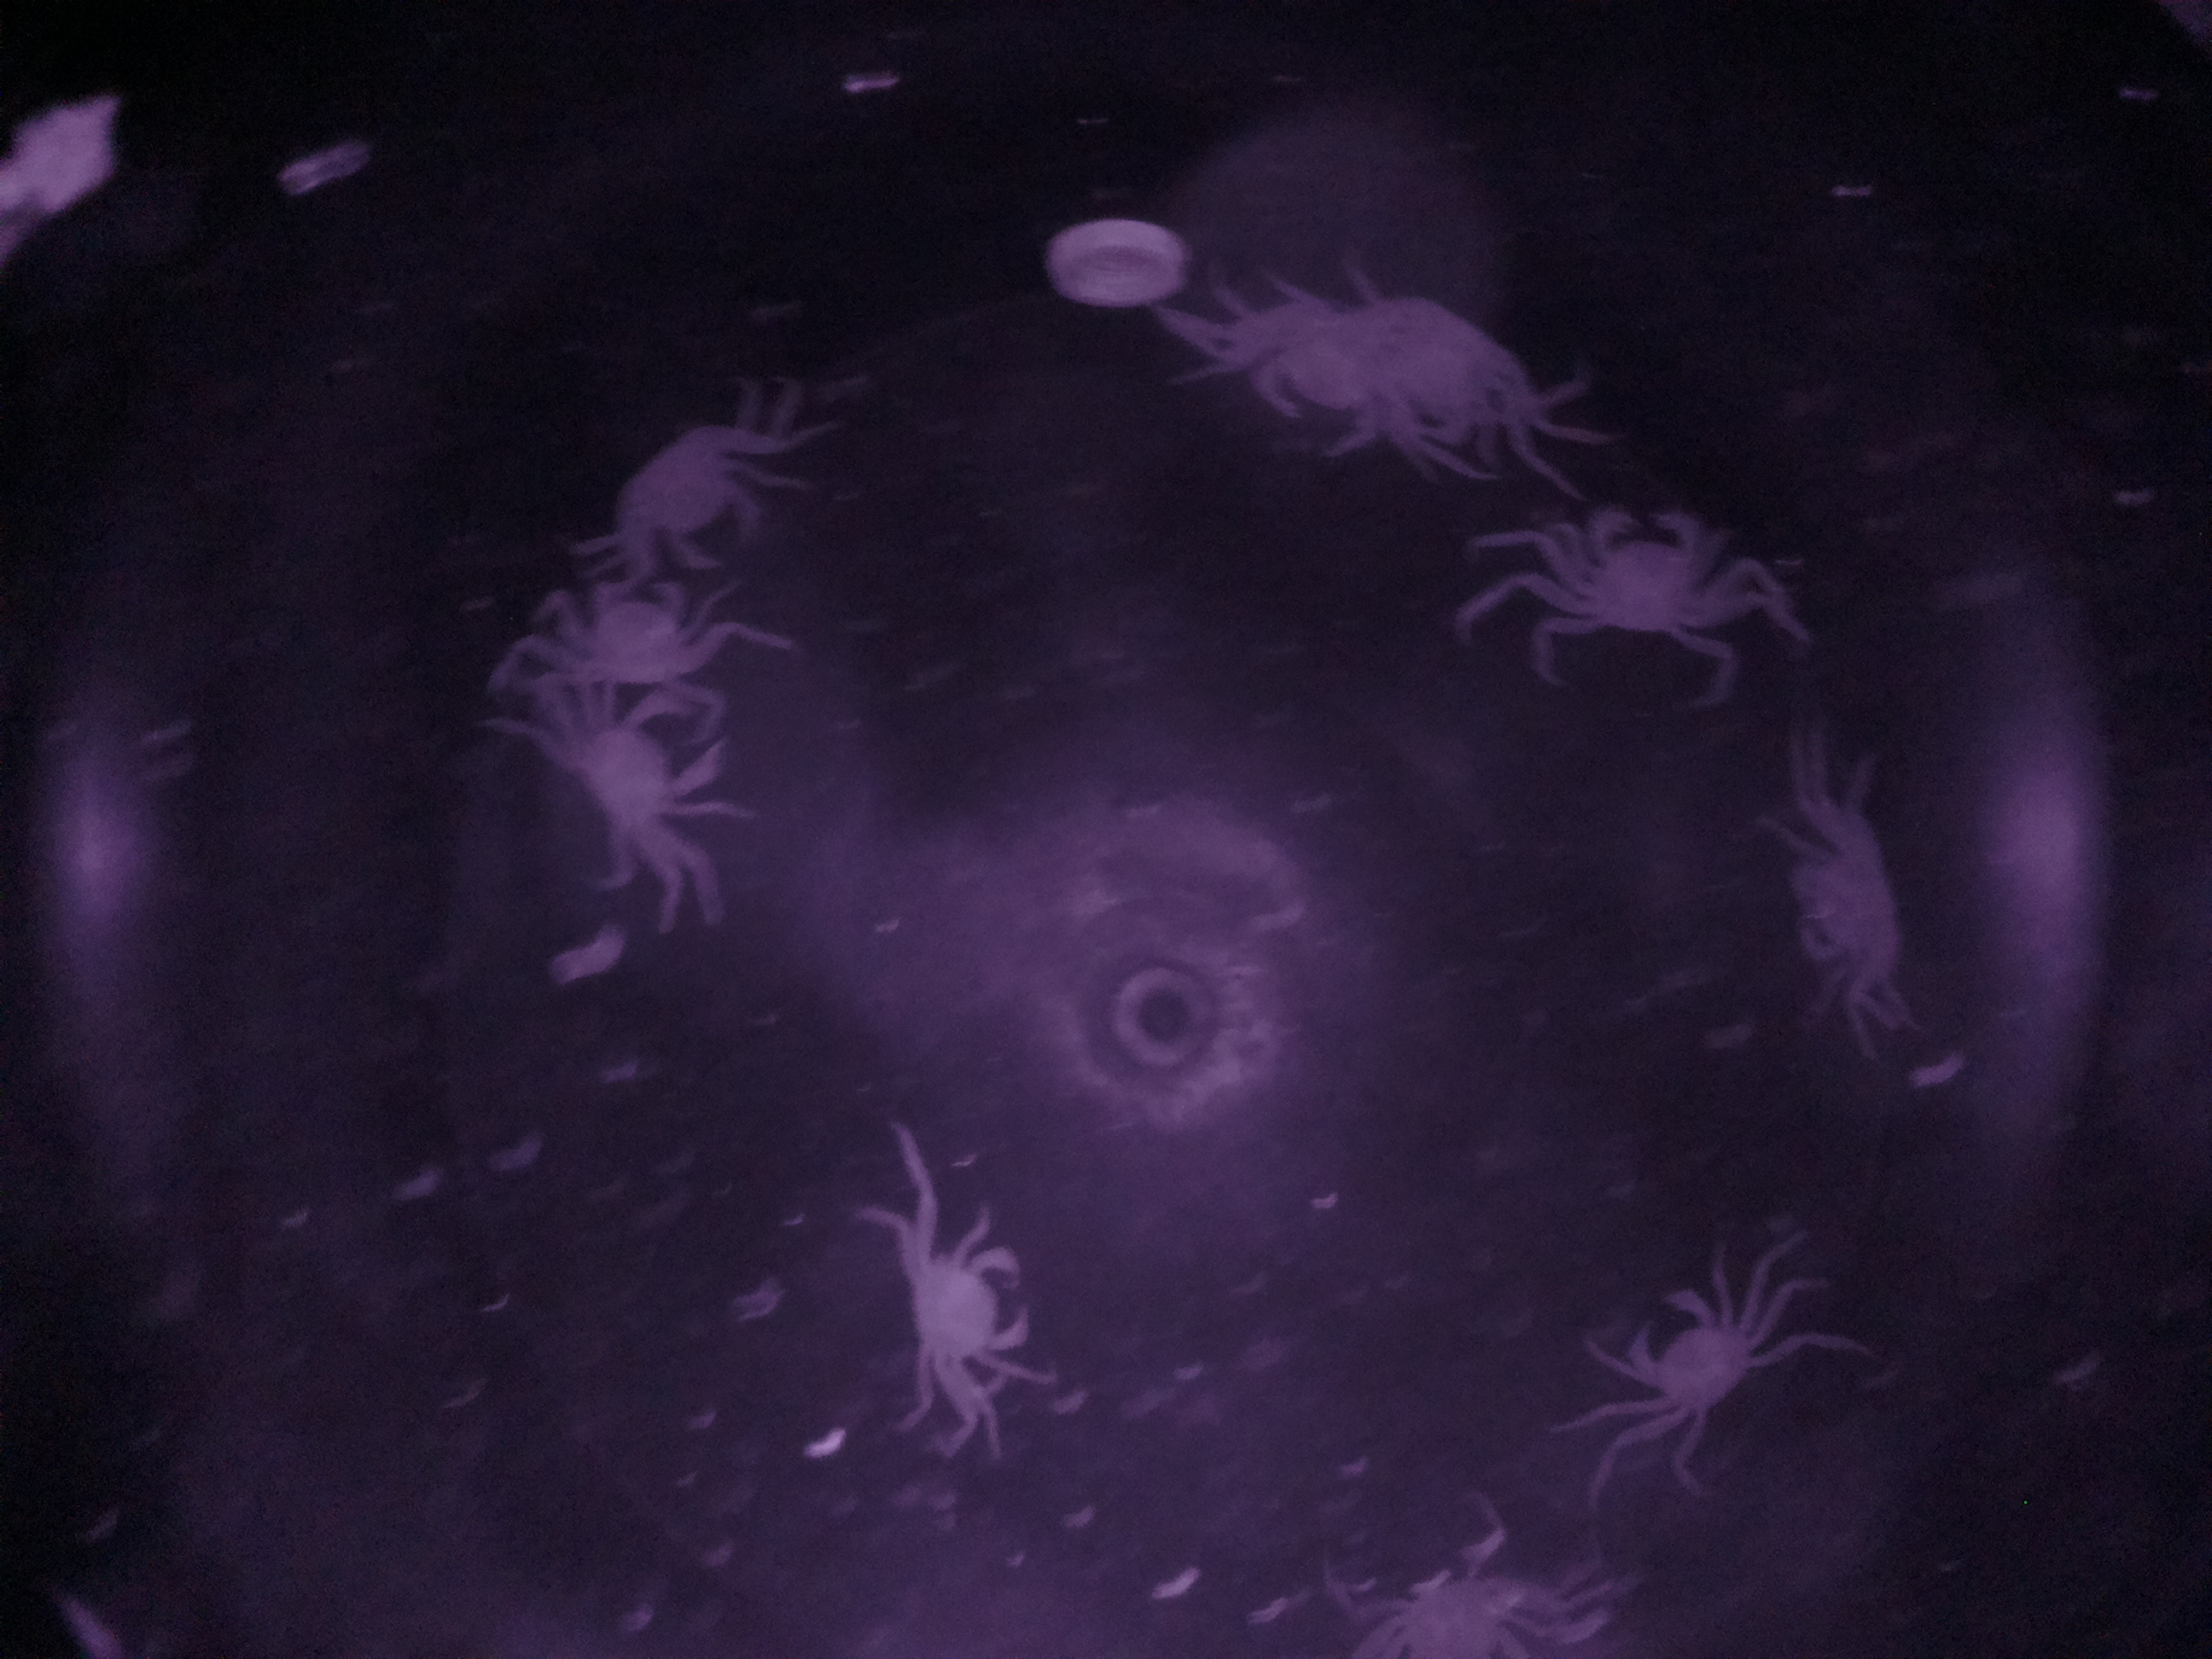Crab: (1580, 1255, 1778, 1455), (1540, 491, 1752, 659), (885, 1201, 1042, 1405)
